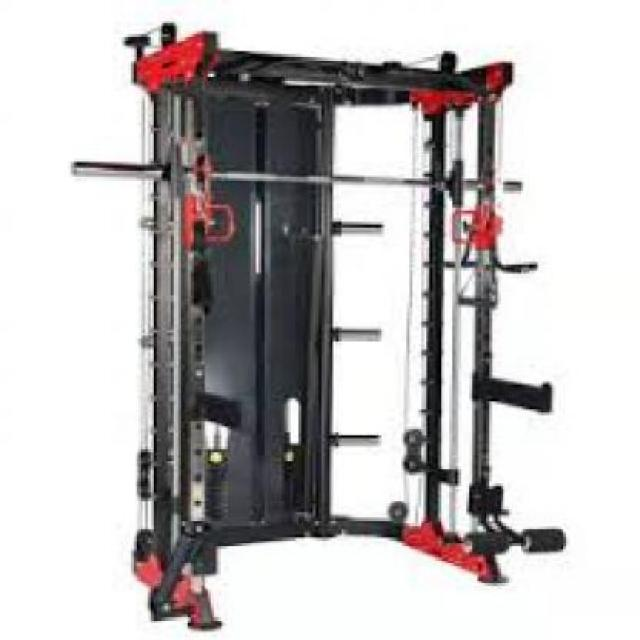smith machine: (73, 20, 564, 631)
